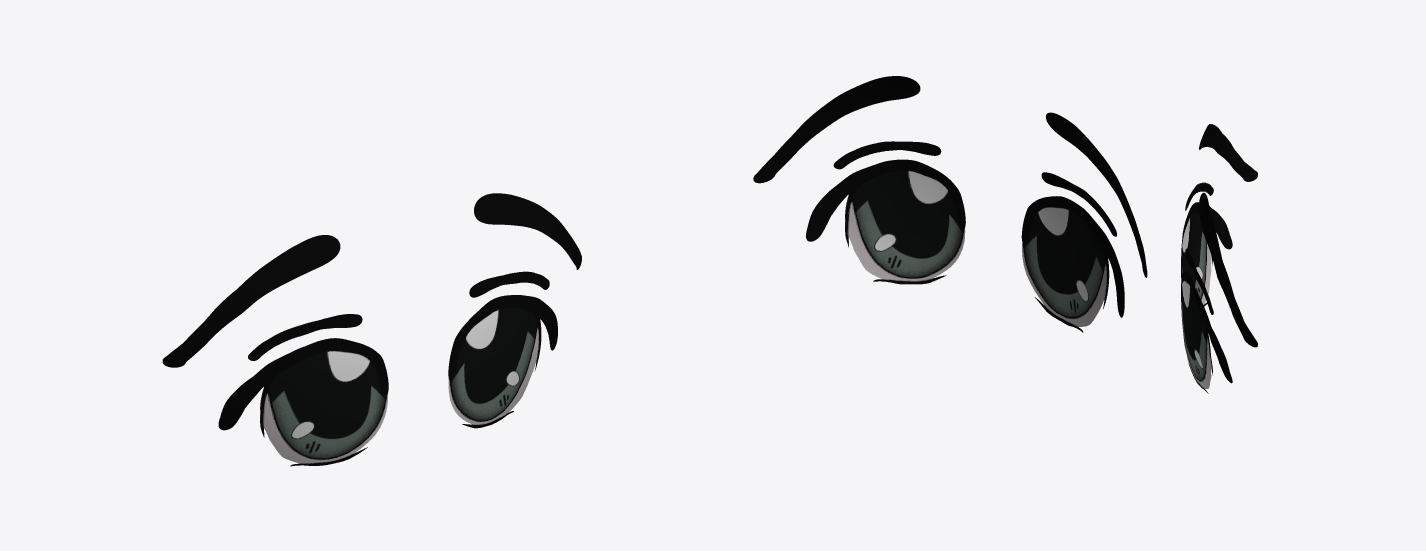
File: Milady_Green.gltf
3 views of the same model, side by side, from view 1: azimuth 30°, elevation 25°; view 2: azimuth 150°, elevation 25°; view 3: azimuth 270°, elevation 25° (orthographic). The views are drawn at different scales.
Visible parts, largest first — view 1: Milady_Green; view 2: Milady_Green; view 3: Milady_Green.
Part boxes in pixels (x1,y1,x2,y2): Milady_Green: (162,193,581,466); Milady_Green: (753,76,1147,332); Milady_Green: (1181,124,1257,393).
Size of the model in its own units: 0.8936 by 0.6926 by 0.4046.
1 material, 1 textured.
